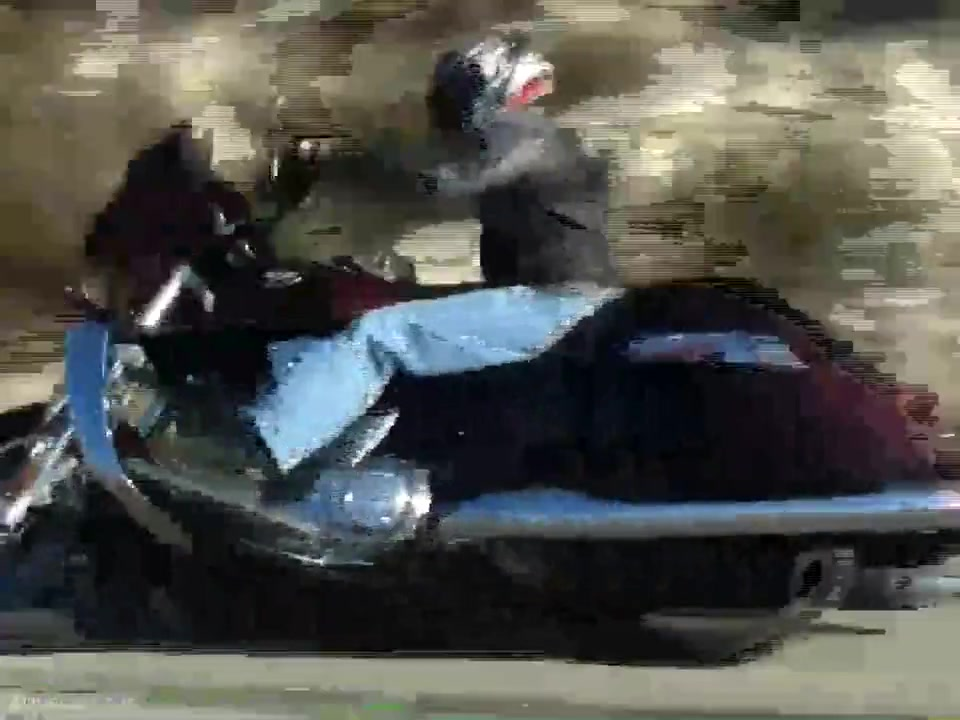motorbike: (3, 119, 960, 664)
